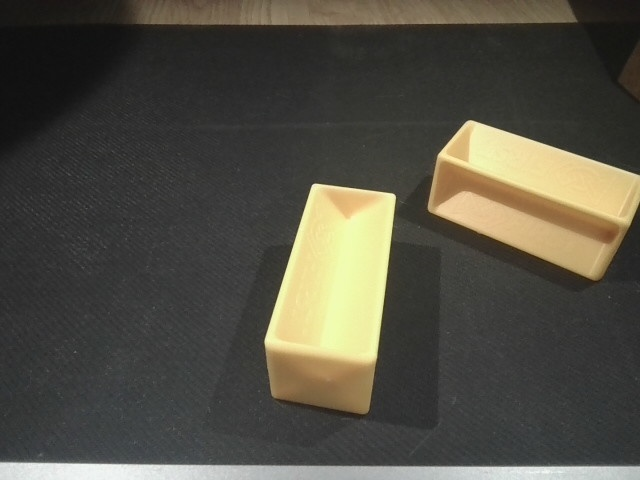YellowSample: (424, 117, 640, 287), (262, 180, 399, 424)
